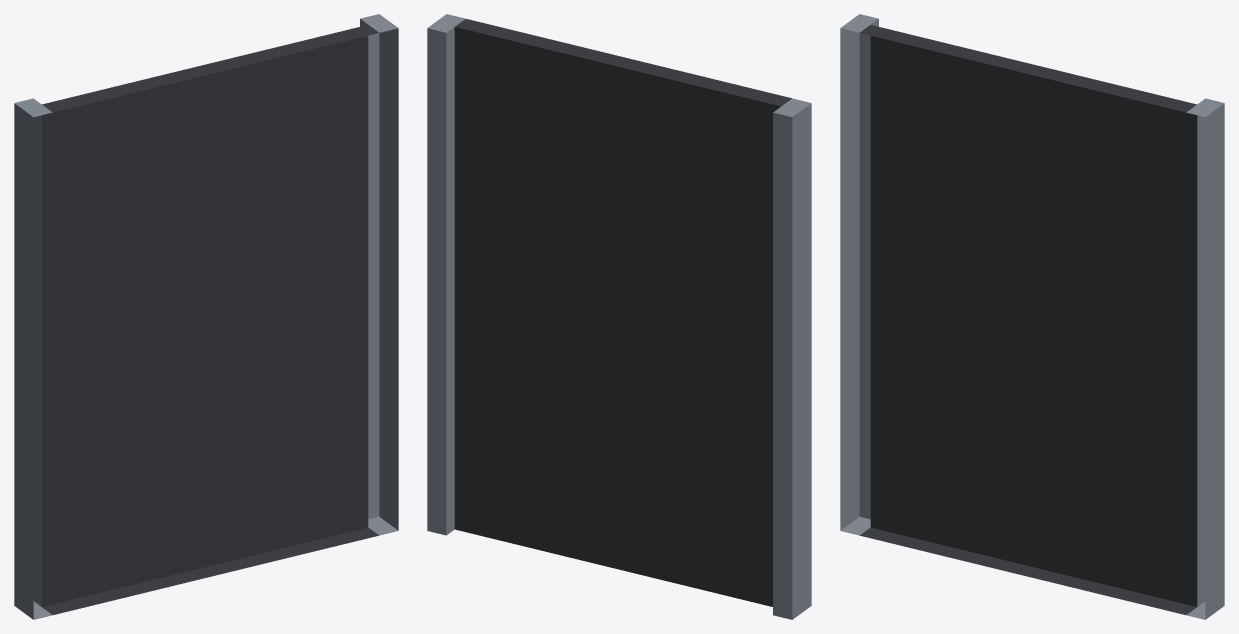
The model's file is SM_RoadSmall_Streight.FBX.
3 renders of one model, left to right at view 1: azimuth 30°, elevation 25°; view 2: azimuth 150°, elevation 25°; view 3: azimuth 330°, elevation 25°, orthographic.
Visible parts, largest first — view 1: SM_RoadSmall_Streight; view 2: SM_RoadSmall_Streight; view 3: SM_RoadSmall_Streight.
Boxes of the visible parts, <box> form: SM_RoadSmall_Streight: <box>14,14,398,619</box>; SM_RoadSmall_Streight: <box>427,14,811,619</box>; SM_RoadSmall_Streight: <box>840,14,1224,619</box>.
Bounding box in the file's own units: 38 × 3.5 × 50.
